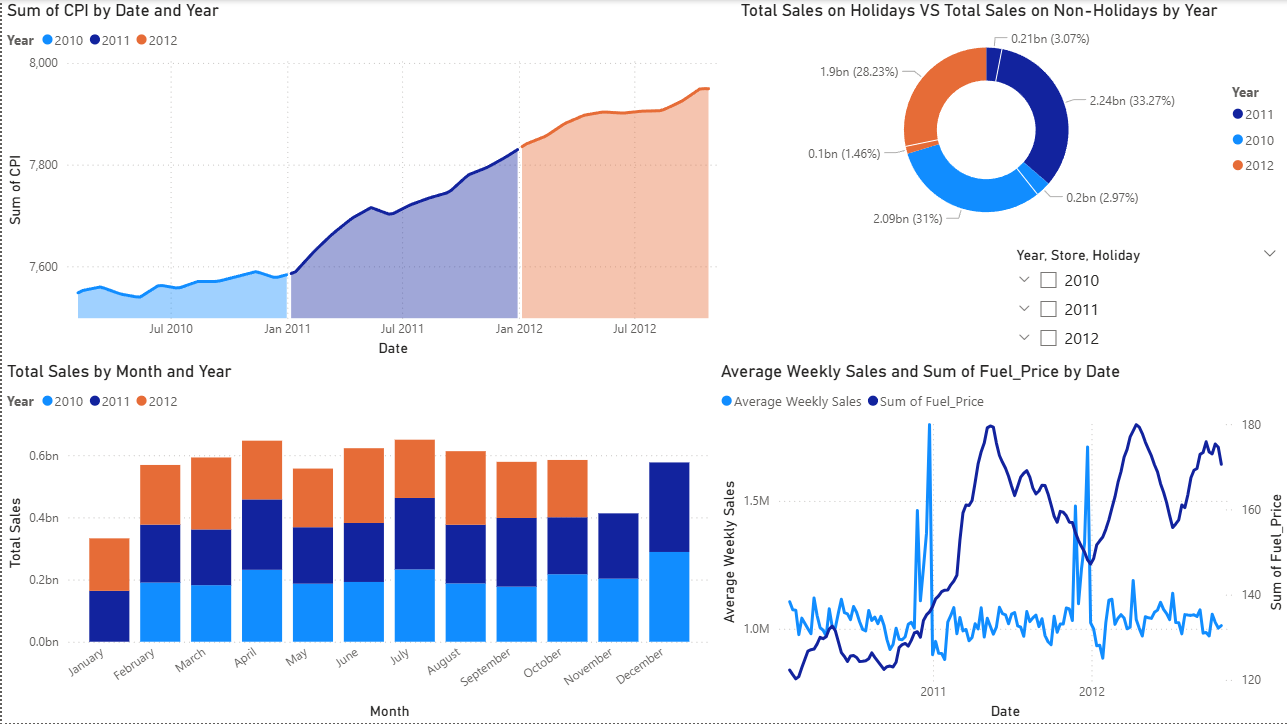

What the dashboard file says about the page in this screenshot:
{"tool":"powerbi","page":{"name":"Page 2","canvas":[1280,720],"ordinal":1},"visuals":[{"type":"columnChart","fields":{"Category":["Walmart_Sales.Date.Variation.Date Hierarchy.Month"],"Y":["Walmart_Sales.Total Sales"],"Series":["Walmart_Sales.Year"]},"box":[0,359.4,710.2,360.8],"z":0},{"type":"donutChart","title":"Total Sales on Holidays VS Total Sales on Non-Holidays by Year","fields":{"Y":["Walmart_Sales.Total Sales on Holidays","Walmart_Sales.Total Sales on Non-Holidays"],"Category":["Walmart_Sales.Year"]},"box":[730.4,0,549.9,239.6],"z":1000},{"type":"slicer","fields":{"Values":["Walmart_Sales.Year","Walmart_Sales.Store","Walmart_Sales.Holiday"]},"box":[995.9,239.6,284.3,119.8],"z":3001},{"type":"areaChart","fields":{"Y":["Sum(Walmart_Sales.CPI)"],"Category":["Walmart_Sales.Date"],"Series":["Walmart_Sales.Year"]},"box":[0,0,730.4,359.4],"z":3002},{"type":"lineChart","fields":{"Y":["Walmart_Sales.Average Weekly Sales"],"Y2":["Sum(Walmart_Sales.Fuel_Price)"],"Category":["Walmart_Sales.Date"]},"box":[710.2,359.4,570.1,360.8],"z":3003}]}

Visuals, with their boxes in screenshot pixels (x1, y1, x2, y2), scaled from the page's 1280x720 canvas onto the 1287x724 screenshot:
columnChart - Walmart_Sales.Date.Variation.Date Hierarchy.Month x Walmart_Sales.Total Sales: [0, 361, 714, 723]
"Total Sales on Holidays VS Total Sales on Non-Holidays by Year" donutChart: [734, 0, 1286, 241]
slicer - Walmart_Sales.Year x Walmart_Sales.Store: [1001, 241, 1286, 361]
areaChart - Sum(Walmart_Sales.CPI) x Walmart_Sales.Date: [0, 0, 734, 361]
lineChart - Walmart_Sales.Average Weekly Sales x Sum(Walmart_Sales.Fuel_Price): [714, 361, 1286, 723]
